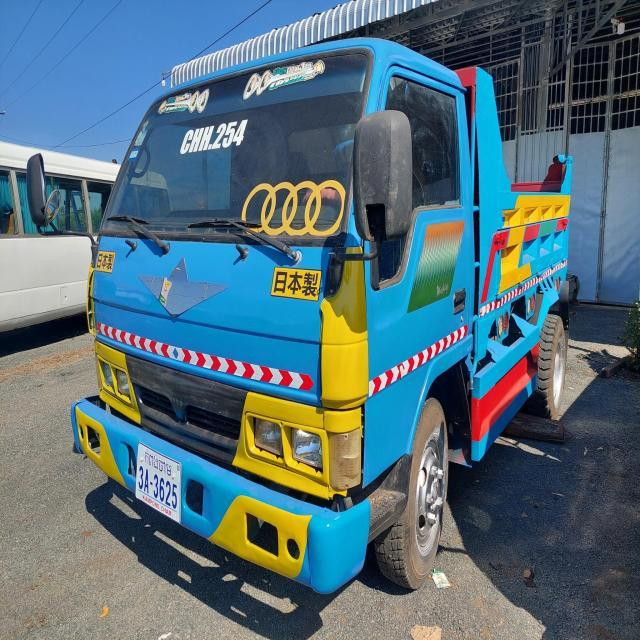Kampong_Cham: (144, 448, 176, 478)
